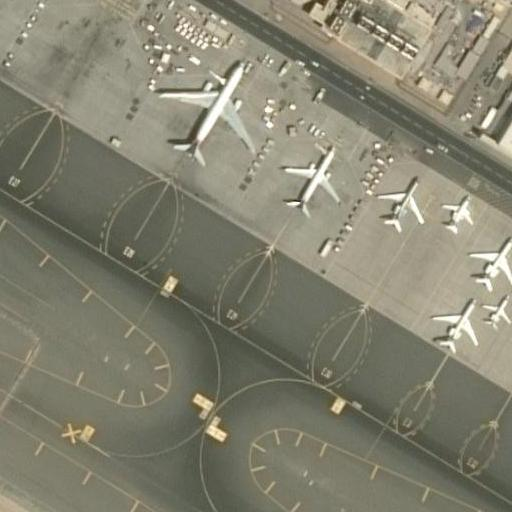Aircraft: (150, 54, 259, 167), (271, 143, 349, 216), (373, 167, 428, 238), (428, 298, 480, 355), (467, 235, 512, 289), (429, 191, 476, 237), (478, 291, 512, 330)
